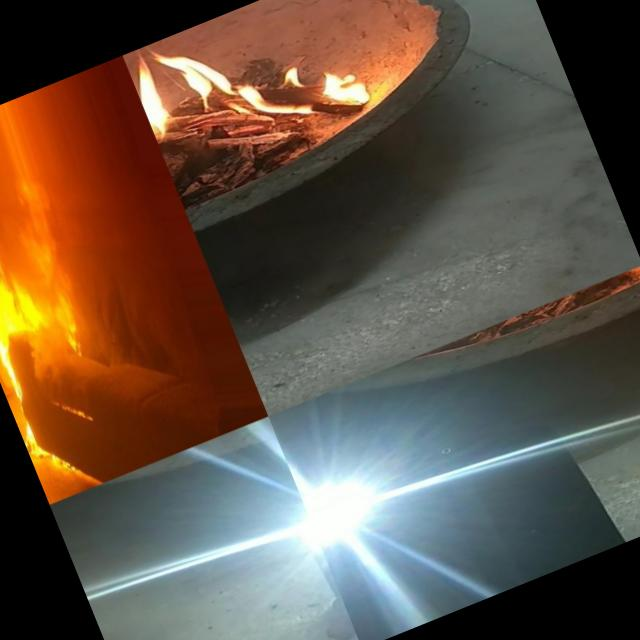fire: (122, 0, 374, 183), (0, 175, 46, 342), (0, 332, 49, 450), (56, 304, 94, 369)
smoke: (0, 163, 86, 301), (19, 314, 80, 389)
